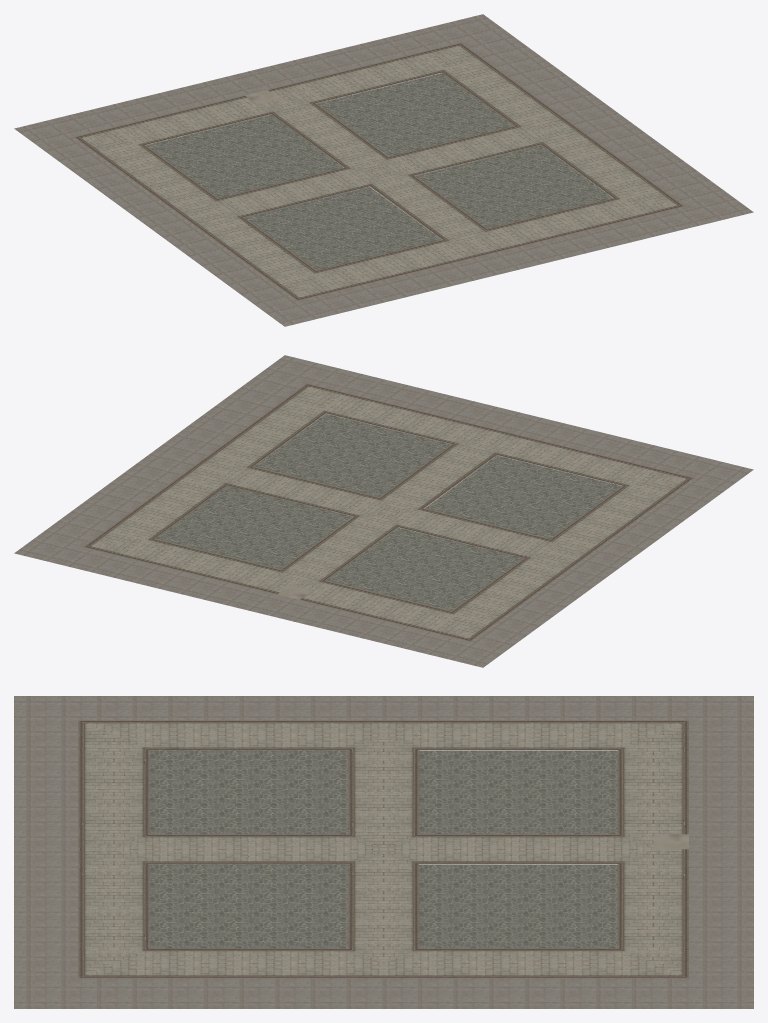
File: jj_ditai01_53_55_9757out.fbx
3 views of the same model, one above another, from view 1: azimuth 30°, elevation 25°; view 2: azimuth 150°, elevation 25°; view 3: azimuth 270°, elevation 25° (orthographic). The views are drawn at different scales.
Visible parts, largest first — view 1: 0000_jj_ditai01, 0002_jj_ditai01, 0001_jj_ditai01; view 2: 0000_jj_ditai01, 0002_jj_ditai01, 0001_jj_ditai01; view 3: 0000_jj_ditai01, 0002_jj_ditai01, 0001_jj_ditai01.
Boxes of the visible parts, bbox=[...] form: 0000_jj_ditai01: bbox=[74, 43, 684, 300]; 0002_jj_ditai01: bbox=[14, 14, 753, 326]; 0001_jj_ditai01: bbox=[146, 73, 612, 270]; 0000_jj_ditai01: bbox=[83, 383, 693, 641]; 0002_jj_ditai01: bbox=[14, 355, 753, 667]; 0001_jj_ditai01: bbox=[155, 414, 622, 611]; 0000_jj_ditai01: bbox=[78, 720, 688, 978]; 0002_jj_ditai01: bbox=[14, 696, 753, 1008]; 0001_jj_ditai01: bbox=[149, 750, 617, 948].
Size of the model in its own units: 103 by 0.0244 by 103.
